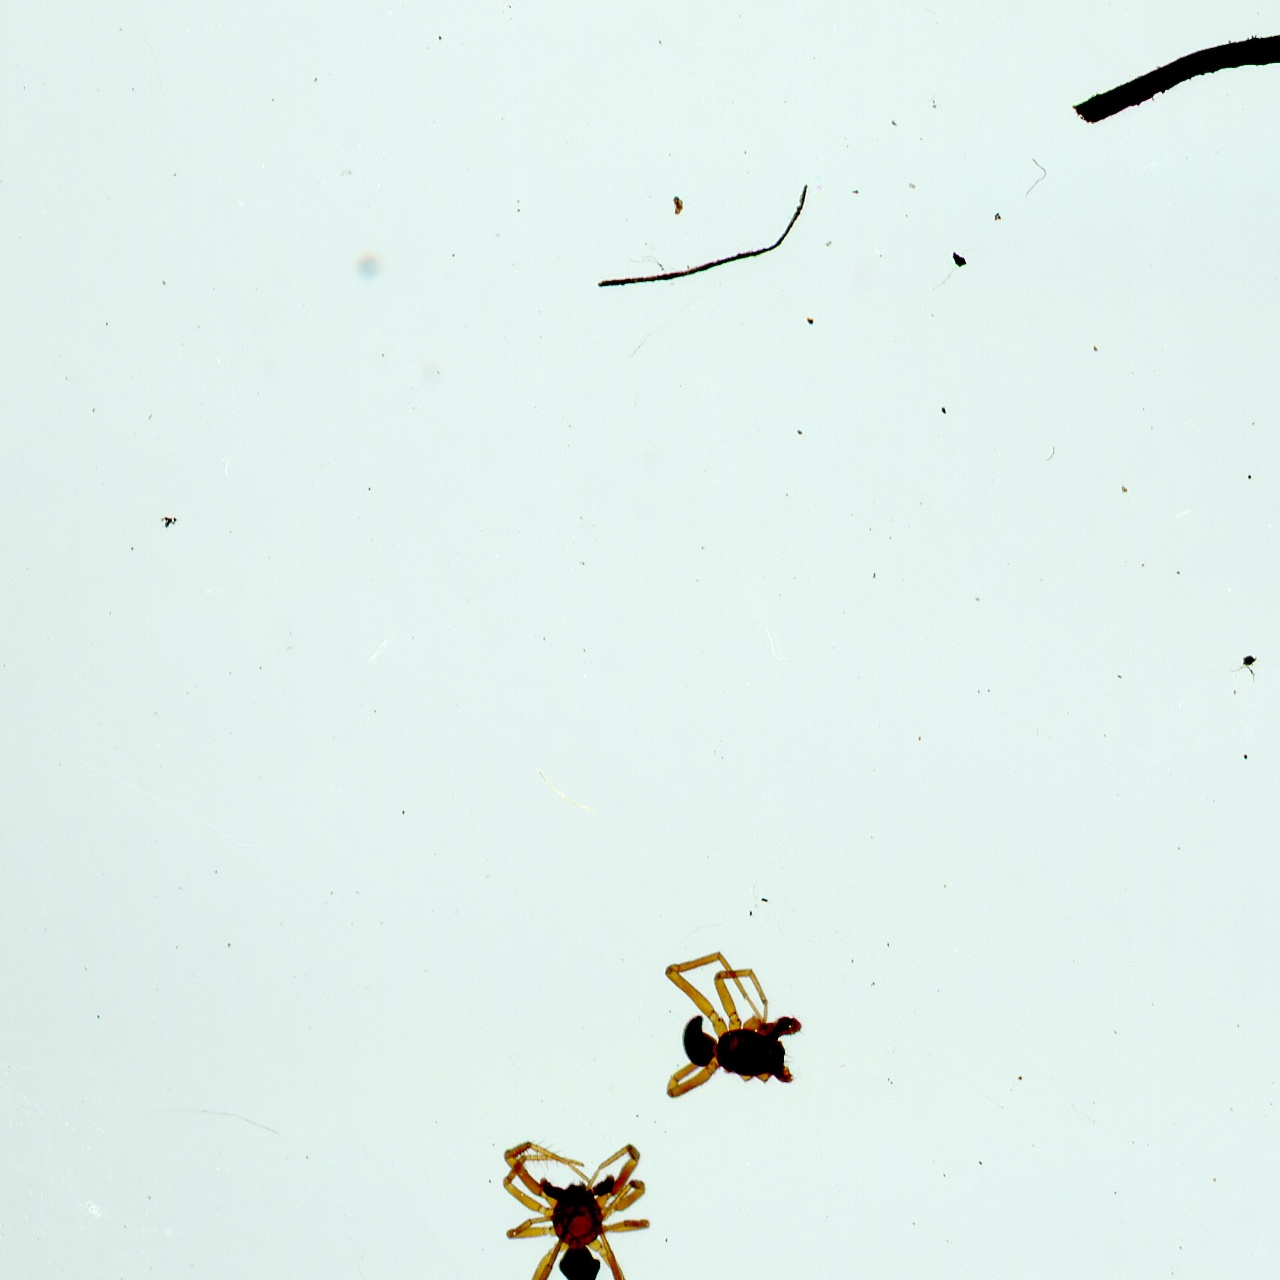arthropod: (491, 1132, 665, 1280), (652, 944, 812, 1103)
